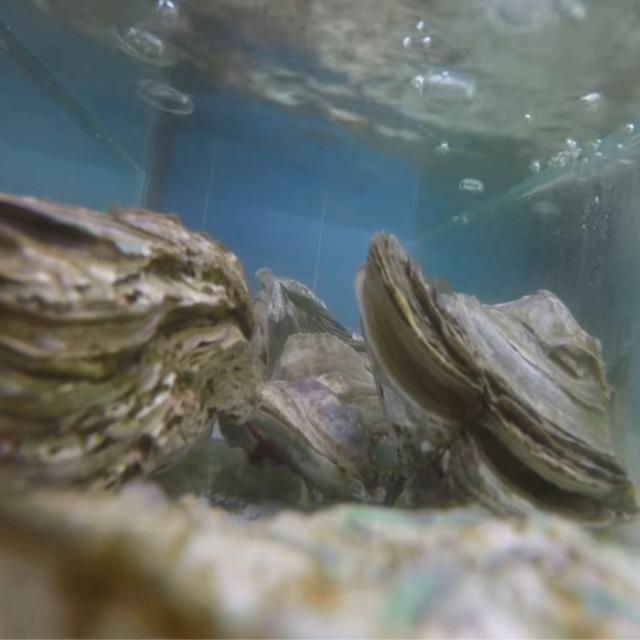Oyster-Closed: (0, 194, 255, 514), (249, 330, 412, 510)
Oyster-Indeterminate: (0, 486, 640, 640), (254, 266, 370, 383)
Oyster-Open: (354, 228, 640, 545)
